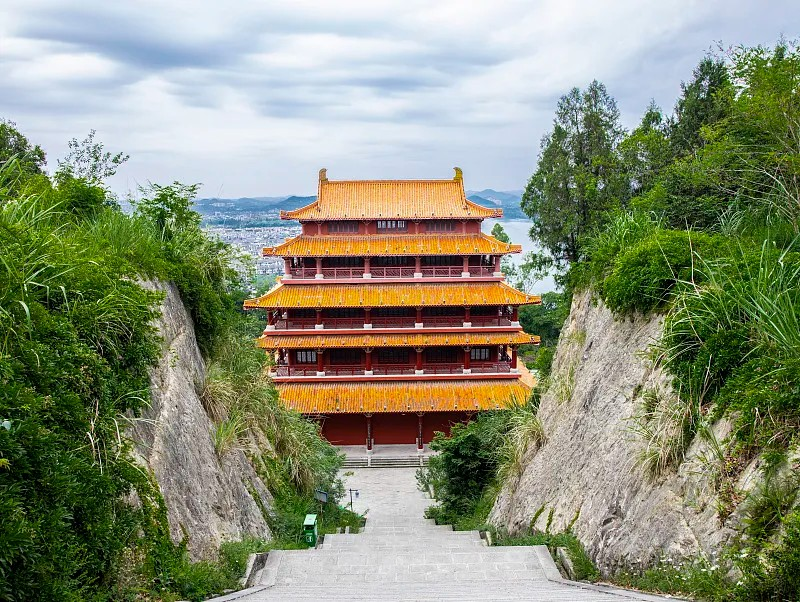Teng: (241, 167, 542, 448)
